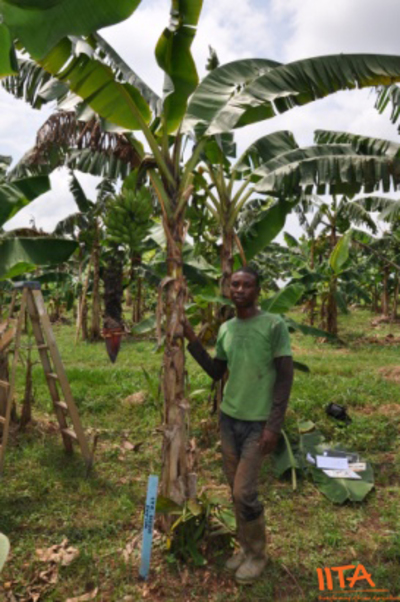bananaHand: (98, 179, 163, 260)
